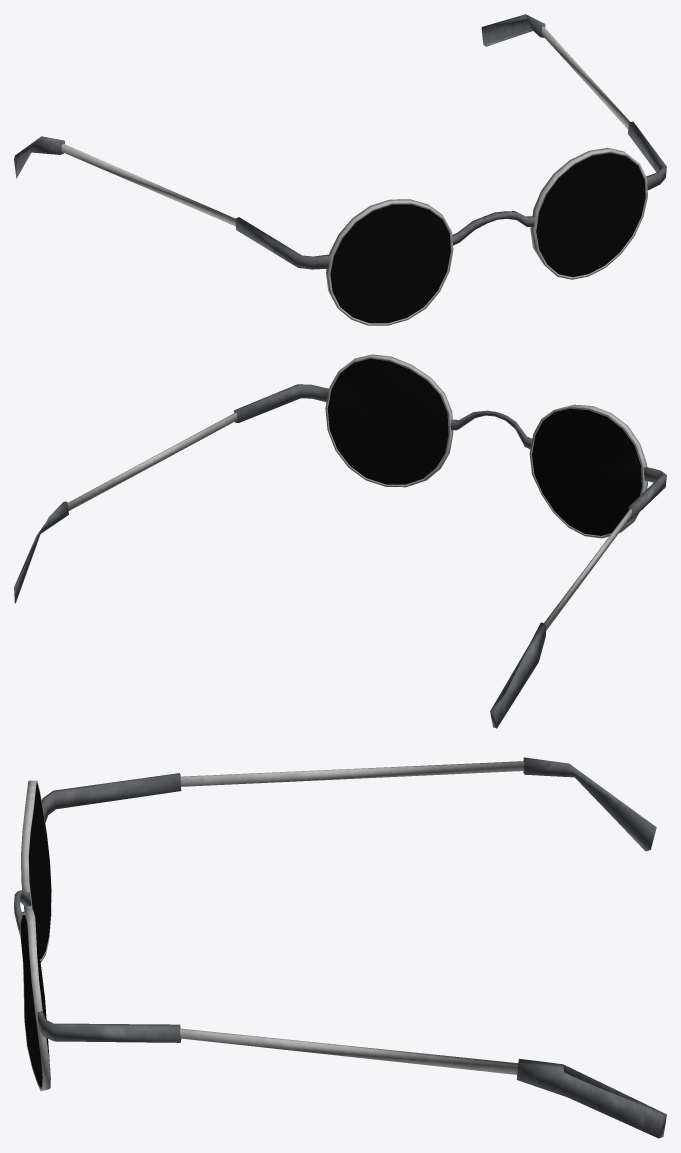
The model's file is Glasses.FBX.
3 renders of one model, top to bottom at view 1: azimuth 30°, elevation 25°; view 2: azimuth 150°, elevation 25°; view 3: azimuth 270°, elevation 25°, orthographic. The views are drawn at different scales.
Visible parts, largest first — view 1: glasses; view 2: glasses; view 3: glasses.
Boxes of the visible parts, x1,y1,x2,y2 form: glasses: (14,14,666,325); glasses: (14,354,666,728); glasses: (14,757,666,1138).
Bounding box in the file's own units: 24.31 × 5.85 × 20.79.
1 material, 1 textured.
